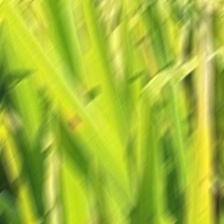Bacterial_Leaf_Blight: (68, 111, 83, 129)
